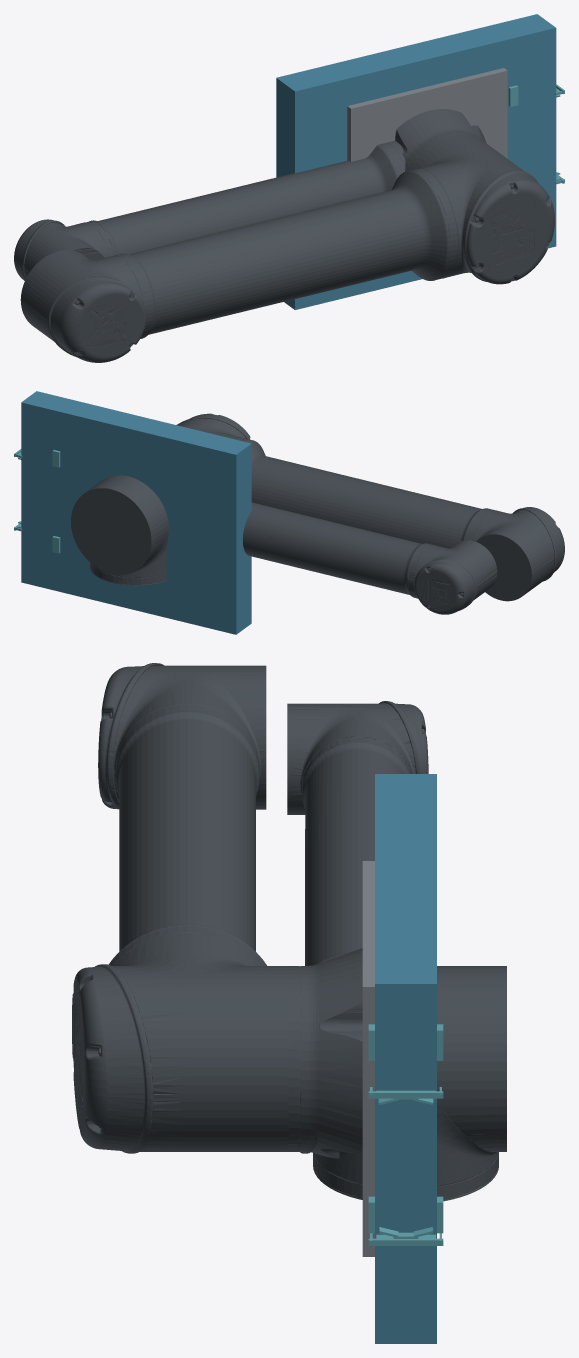
Rendered from ur10e_short.glb.
3 renders of one model, top to bottom at view 1: azimuth 30°, elevation 25°; view 2: azimuth 150°, elevation 25°; view 3: azimuth 270°, elevation 25°, orthographic. The views are drawn at different scales.
Visible parts, largest first — view 1: body_03, body_07, body_01, body_00; view 2: body_07, body_03, body_01, body_02; view 3: body_03, body_07, body_01, body_02, body_00, body_12, body_08.
Part boxes in pixels (box(x1,y1,x2,y2)): body_03: box(20, 135, 554, 362); body_07: box(276, 14, 556, 309); body_01: box(14, 141, 405, 280); body_00: box(395, 109, 486, 171); body_07: box(21, 391, 251, 634); body_03: box(176, 413, 564, 601); body_01: box(243, 502, 497, 614); body_02: box(71, 475, 168, 585); body_03: box(72, 663, 288, 1153); body_07: box(362, 774, 436, 1343); body_01: box(287, 701, 428, 965); body_02: box(300, 966, 506, 1201); body_00: box(282, 948, 362, 1158); body_12: box(368, 1196, 443, 1245); body_08: box(368, 1024, 443, 1104).
Bounding box in the file's own units: 0.8837 × 0.32 × 0.3506.
